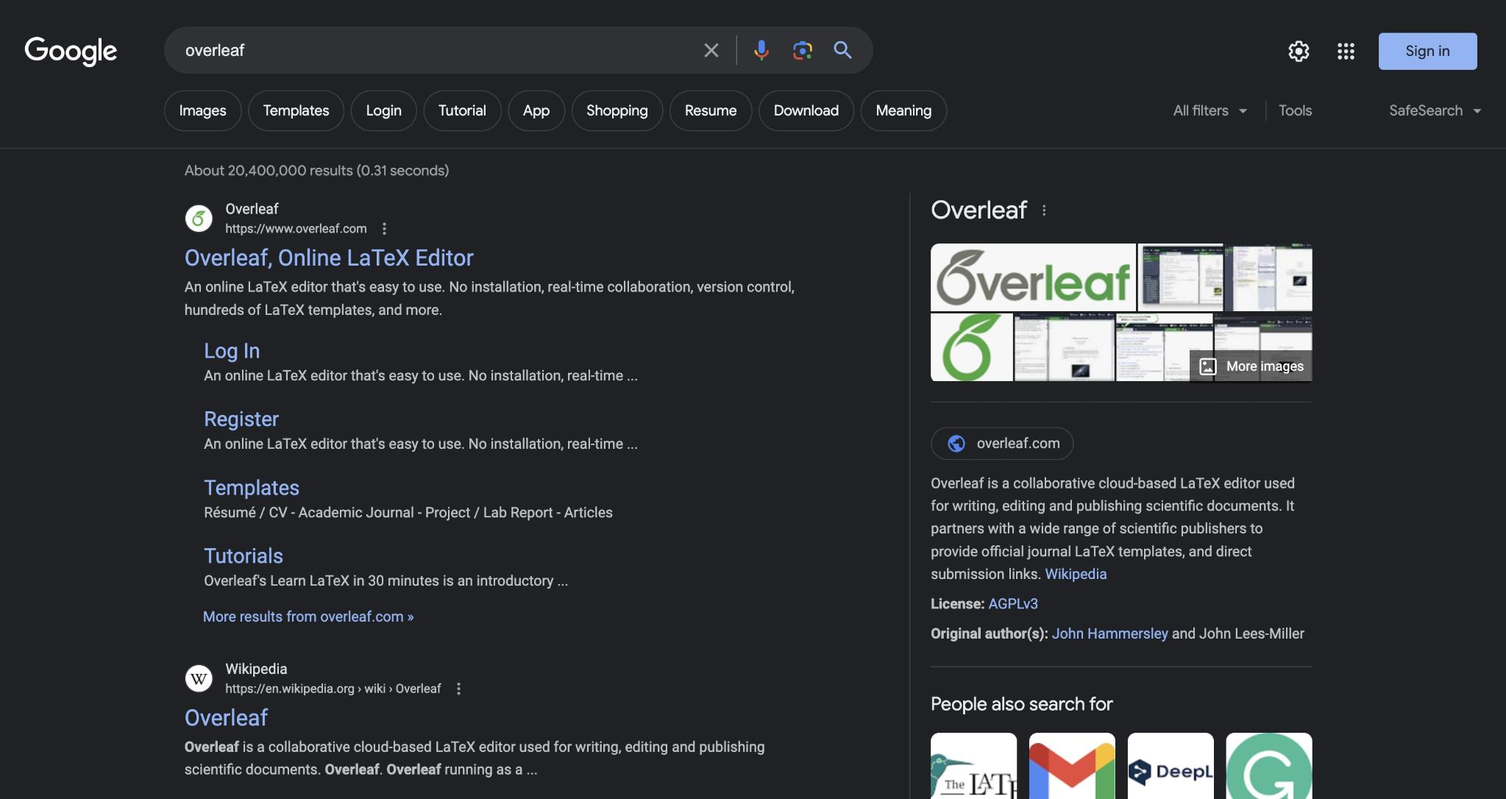webelement: (184, 199, 852, 799), (931, 192, 1312, 799), (0, 89, 1505, 146), (164, 89, 1149, 130), (0, 26, 852, 73), (931, 474, 1294, 581), (184, 738, 764, 778), (931, 243, 1135, 310), (185, 38, 686, 63), (931, 690, 1312, 715), (1014, 313, 1113, 380), (1215, 313, 1312, 380), (1116, 313, 1212, 380), (1127, 731, 1214, 799), (930, 731, 1016, 799), (1029, 731, 1115, 799), (1226, 731, 1312, 799), (1225, 243, 1312, 310), (1138, 243, 1222, 310), (1377, 90, 1494, 138), (930, 313, 1012, 380), (11, 58, 123, 103), (11, 87, 123, 132), (930, 427, 1072, 459), (184, 252, 473, 267), (225, 658, 440, 678), (1051, 625, 1303, 642), (1161, 89, 1262, 130), (1189, 350, 1311, 383), (758, 89, 855, 130), (248, 89, 344, 130), (225, 678, 440, 696), (571, 89, 663, 130), (202, 607, 413, 624), (860, 89, 947, 130), (1379, 32, 1477, 68), (669, 89, 751, 130), (164, 89, 241, 130), (423, 89, 500, 130), (930, 194, 1027, 226), (24, 36, 118, 67), (225, 198, 366, 218), (350, 89, 416, 130), (225, 219, 366, 237), (507, 89, 564, 130), (203, 475, 298, 499), (686, 27, 735, 72), (1269, 89, 1321, 130), (931, 625, 1051, 642), (827, 27, 871, 72), (1052, 625, 1167, 642), (203, 544, 282, 568), (203, 406, 278, 431), (1389, 100, 1487, 119), (740, 27, 781, 72), (977, 431, 1059, 453), (782, 27, 822, 72), (1278, 30, 1319, 70), (1325, 30, 1366, 70), (203, 337, 259, 362), (263, 100, 328, 119), (774, 100, 839, 119), (184, 712, 266, 727), (354, 680, 440, 694), (586, 100, 647, 119), (875, 100, 931, 119), (1044, 565, 1105, 582), (684, 100, 736, 119), (931, 595, 988, 612), (179, 100, 226, 119), (438, 100, 485, 119), (988, 595, 1038, 612), (375, 217, 415, 237), (448, 677, 489, 696), (1406, 41, 1449, 59), (366, 100, 401, 119), (522, 100, 549, 119), (1033, 199, 1053, 219), (189, 209, 207, 227), (189, 668, 207, 686), (981, 595, 985, 612), (1044, 625, 1048, 642), (1041, 565, 1044, 582)
